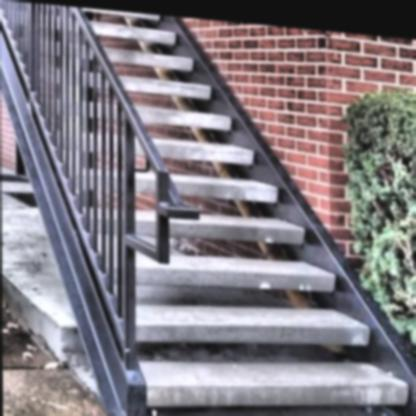stair: (29, 0, 411, 408)
